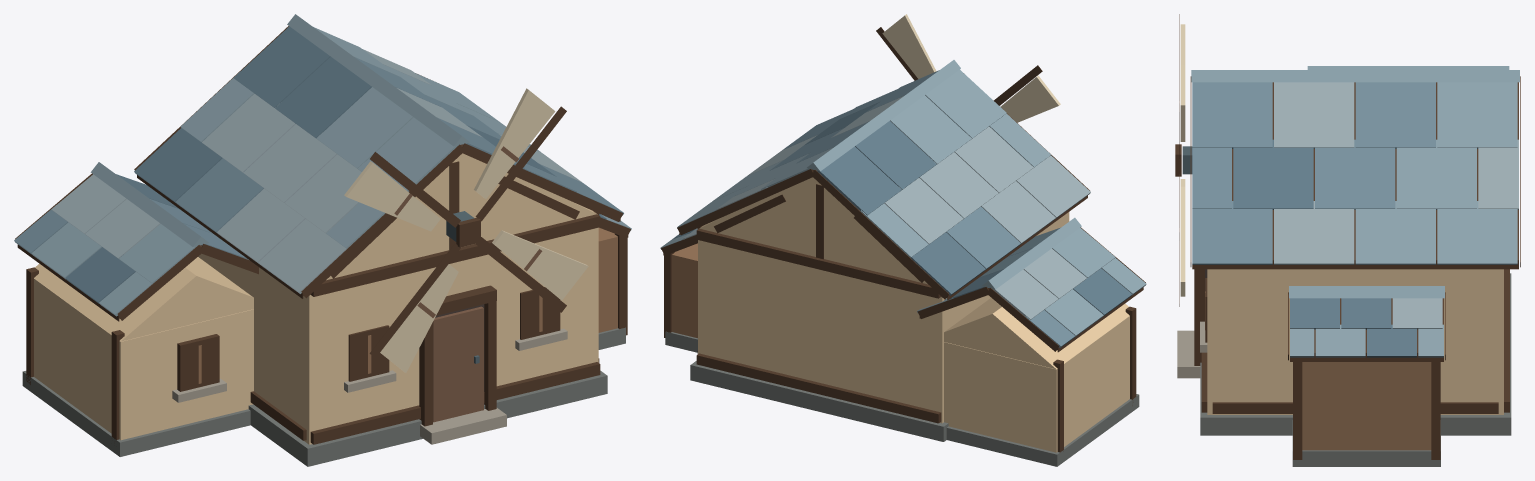
File: ENV_Civic_mill_LOD1.glb
3 renders of one model, left to right at view 1: azimuth 30°, elevation 25°; view 2: azimuth 150°, elevation 25°; view 3: azimuth 270°, elevation 25°, orthographic. The views are drawn at different scales.
Parts seen in each view (by area): view 1: ENV_Civic_mill_LOD1_roof_roofTiles, ENV_Civic_mill_LOD1_shell_plaster, ENV_Civic_mill_LOD1_stage6_wing_plaster, ENV_Civic_mill_LOD1_stage6_wing_roofTiles, ENV_Civic_mill_LOD1_shell_woodDark, ENV_Civic_mill_LOD1_mill_sails_plasterIvory, ENV_Civic_mill_LOD1_stage6_wing_woodDark, ENV_Civic_mill_LOD1_foundation_stoneDark, ENV_Civic_mill_LOD1_shell_wood, ENV_Civic_mill_LOD1_mill_sails_woodDark, ENV_Civic_mill_LOD1_roof_woodDark, ENV_Civic_mill_LOD1_stage6_wing_stoneDark (+4 smaller); view 2: ENV_Civic_mill_LOD1_roof_roofTiles, ENV_Civic_mill_LOD1_shell_plaster, ENV_Civic_mill_LOD1_stage6_wing_plaster, ENV_Civic_mill_LOD1_stage6_wing_roofTiles, ENV_Civic_mill_LOD1_shell_woodDark, ENV_Civic_mill_LOD1_foundation_stoneDark, ENV_Civic_mill_LOD1_roof_woodDark, ENV_Civic_mill_LOD1_stage6_wing_woodDark, ENV_Civic_mill_LOD1_mill_sails_plasterIvory, ENV_Civic_mill_LOD1_stage6_wing_stoneDark, ENV_Civic_mill_LOD1_stage5_shed_woodLight, ENV_Civic_mill_LOD1_stage5_shed_woodDark (+2 smaller); view 3: ENV_Civic_mill_LOD1_roof_roofTiles, ENV_Civic_mill_LOD1_shell_plaster, ENV_Civic_mill_LOD1_stage5_shed_woodLight, ENV_Civic_mill_LOD1_stage5_shed_roofTiles, ENV_Civic_mill_LOD1_shell_woodDark, ENV_Civic_mill_LOD1_foundation_stoneDark, ENV_Civic_mill_LOD1_roof_woodDark, ENV_Civic_mill_LOD1_stage5_shed_woodDark, ENV_Civic_mill_LOD1_stage5_shed_stoneDark, ENV_Civic_mill_LOD1_mill_sails_plasterIvory, ENV_Civic_mill_LOD1_shell_stone, ENV_Civic_mill_LOD1_stage6_wing_roofTiles (+1 smaller).
Part boxes in pixels (x1,y1,x2,y2): ENV_Civic_mill_LOD1_roof_roofTiles: (134, 14, 623, 293); ENV_Civic_mill_LOD1_shell_plaster: (198, 153, 598, 444); ENV_Civic_mill_LOD1_stage6_wing_plaster: (34, 257, 253, 440); ENV_Civic_mill_LOD1_stage6_wing_roofTiles: (14, 162, 248, 316); ENV_Civic_mill_LOD1_shell_woodDark: (250, 161, 600, 444); ENV_Civic_mill_LOD1_mill_sails_plasterIvory: (344, 88, 588, 372); ENV_Civic_mill_LOD1_stage6_wing_woodDark: (15, 173, 258, 439); ENV_Civic_mill_LOD1_foundation_stoneDark: (248, 370, 607, 466); ENV_Civic_mill_LOD1_shell_wood: (433, 306, 483, 422); ENV_Civic_mill_LOD1_mill_sails_woodDark: (369, 106, 566, 357); ENV_Civic_mill_LOD1_roof_woodDark: (134, 26, 623, 298); ENV_Civic_mill_LOD1_stage6_wing_stoneDark: (22, 371, 250, 456); ENV_Civic_mill_LOD1_roof_roofTiles: (677, 60, 1090, 295); ENV_Civic_mill_LOD1_shell_plaster: (698, 177, 1069, 423); ENV_Civic_mill_LOD1_stage6_wing_plaster: (944, 297, 1129, 452); ENV_Civic_mill_LOD1_stage6_wing_roofTiles: (917, 217, 1146, 347); ENV_Civic_mill_LOD1_shell_woodDark: (696, 184, 941, 423); ENV_Civic_mill_LOD1_foundation_stoneDark: (690, 361, 948, 441); ENV_Civic_mill_LOD1_roof_woodDark: (677, 113, 1089, 300); ENV_Civic_mill_LOD1_stage6_wing_woodDark: (917, 227, 1145, 452); ENV_Civic_mill_LOD1_mill_sails_plasterIvory: (882, 14, 1060, 122); ENV_Civic_mill_LOD1_stage6_wing_stoneDark: (946, 394, 1139, 466); ENV_Civic_mill_LOD1_stage5_shed_woodLight: (672, 243, 697, 338); ENV_Civic_mill_LOD1_stage5_shed_woodDark: (661, 235, 697, 337); ENV_Civic_mill_LOD1_roof_roofTiles: (1191, 70, 1519, 264); ENV_Civic_mill_LOD1_shell_plaster: (1207, 269, 1503, 414); ENV_Civic_mill_LOD1_stage5_shed_woodLight: (1302, 362, 1431, 450); ENV_Civic_mill_LOD1_stage5_shed_roofTiles: (1289, 286, 1444, 357); ENV_Civic_mill_LOD1_shell_woodDark: (1194, 269, 1509, 413); ENV_Civic_mill_LOD1_foundation_stoneDark: (1200, 273, 1511, 435); ENV_Civic_mill_LOD1_roof_woodDark: (1190, 76, 1520, 269); ENV_Civic_mill_LOD1_stage5_shed_woodDark: (1288, 292, 1445, 459); ENV_Civic_mill_LOD1_stage5_shed_stoneDark: (1292, 420, 1440, 466); ENV_Civic_mill_LOD1_mill_sails_plasterIvory: (1180, 24, 1185, 296); ENV_Civic_mill_LOD1_shell_stone: (1177, 321, 1207, 378); ENV_Civic_mill_LOD1_stage6_wing_roofTiles: (1307, 66, 1509, 69).
Bounding box in the file's own units: 8.76 × 5.49 × 5.25.
